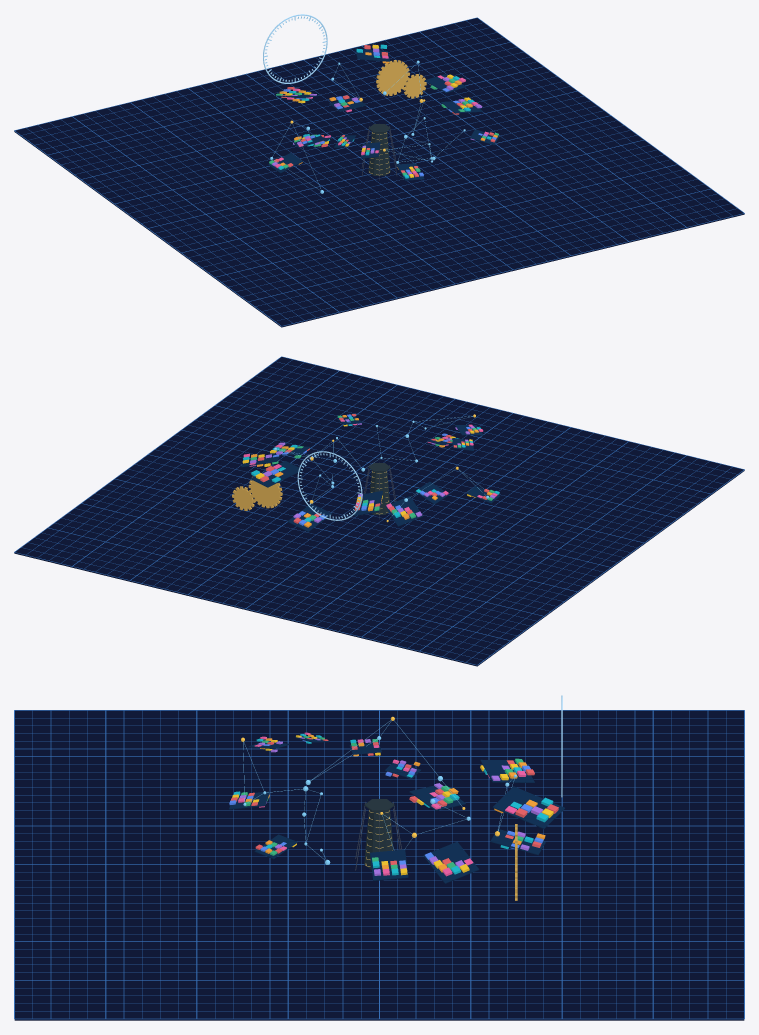
File: env_scheduling.glb
3 views of the same model, one above another, from view 1: azimuth 30°, elevation 25°; view 2: azimuth 150°, elevation 25°; view 3: azimuth 270°, elevation 25° (orthographic). The views are drawn at different scales.
Visible parts, largest first — view 1: env_abyss, env_gridline, env_slab, gearA_brass, env_cr_metal, env_clock; view 2: env_abyss, env_gridline, env_slab, env_cr_metal, gearA_brass, env_clock; view 3: env_abyss, env_gridline, env_slab, env_cr_metal, env_c0, env_c6, env_c4, env_edge, env_c7, env_c2, env_c5, env_c3 (+1 smaller).
Boxes of the visible parts, left/top/right/bottom form: env_abyss: left=14, top=18, right=744, bottom=327; env_gridline: left=14, top=17, right=744, bottom=326; env_slab: left=268, top=48, right=499, bottom=180; gearA_brass: left=376, top=60, right=409, bottom=95; env_cr_metal: left=368, top=124, right=390, bottom=175; env_clock: left=263, top=14, right=327, bottom=83; env_abyss: left=14, top=357, right=744, bottom=666; env_gridline: left=14, top=356, right=744, bottom=665; env_slab: left=241, top=417, right=499, bottom=531; env_cr_metal: left=368, top=463, right=390, bottom=514; gearA_brass: left=248, top=472, right=282, bottom=508; env_clock: left=297, top=451, right=362, bottom=520; env_abyss: left=14, top=710, right=744, bottom=1020; env_gridline: left=14, top=710, right=744, bottom=1019; env_slab: left=229, top=736, right=564, bottom=883; env_cr_metal: left=364, top=799, right=394, bottom=869; env_c0: left=230, top=738, right=558, bottom=866; env_c6: left=233, top=734, right=553, bottom=875; env_c4: left=239, top=737, right=543, bottom=875; env_edge: left=243, top=720, right=514, bottom=861; env_c7: left=232, top=735, right=553, bottom=875; env_c2: left=245, top=734, right=545, bottom=872; env_c5: left=238, top=732, right=526, bottom=876; env_c3: left=241, top=736, right=523, bottom=870.
Size of the model in its own units: 160 by 37.4 by 160.
4 materials, 4 textured.
